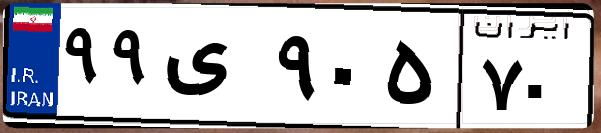0: (330, 28, 385, 110), (525, 38, 570, 115)
5: (385, 28, 445, 110)
7: (475, 38, 525, 113)
9: (270, 28, 330, 110), (57, 26, 110, 100), (110, 28, 158, 98)
ی: (158, 20, 270, 120)
